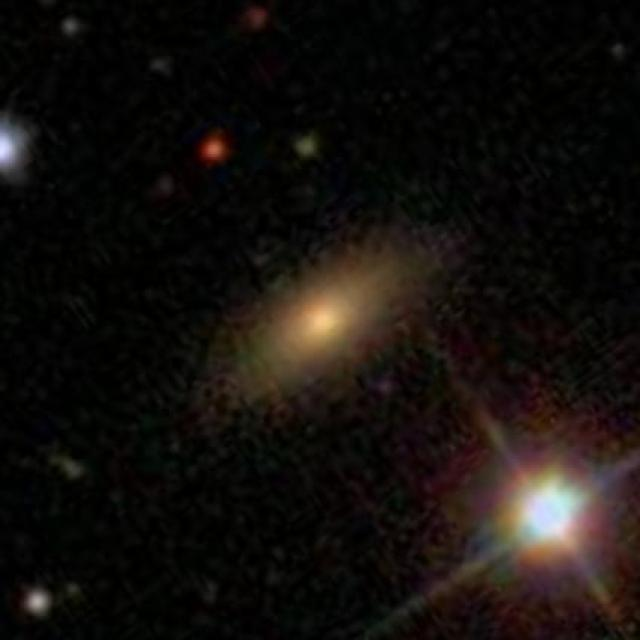galaxy: (176, 222, 473, 450), (1, 102, 44, 187), (194, 132, 232, 170), (19, 588, 58, 622), (46, 452, 87, 483), (143, 56, 179, 85), (242, 5, 275, 36), (293, 131, 320, 163), (58, 578, 86, 605), (59, 12, 84, 42)
star: (369, 407, 640, 635)
